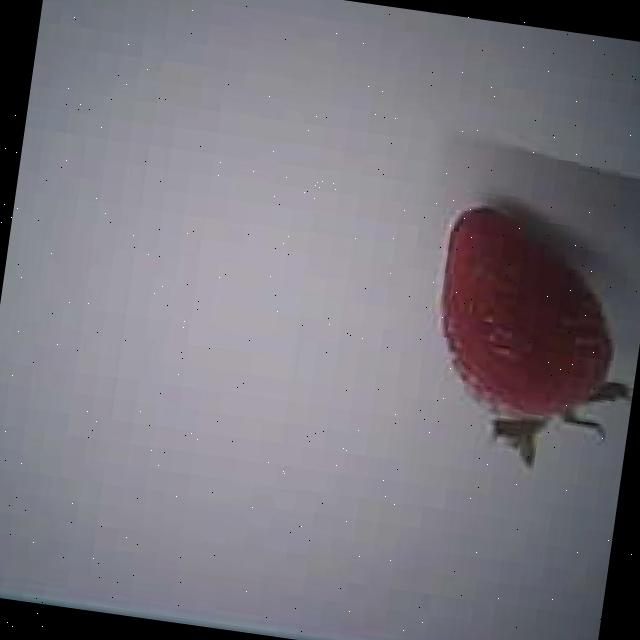strawberry: (426, 206, 628, 427)
